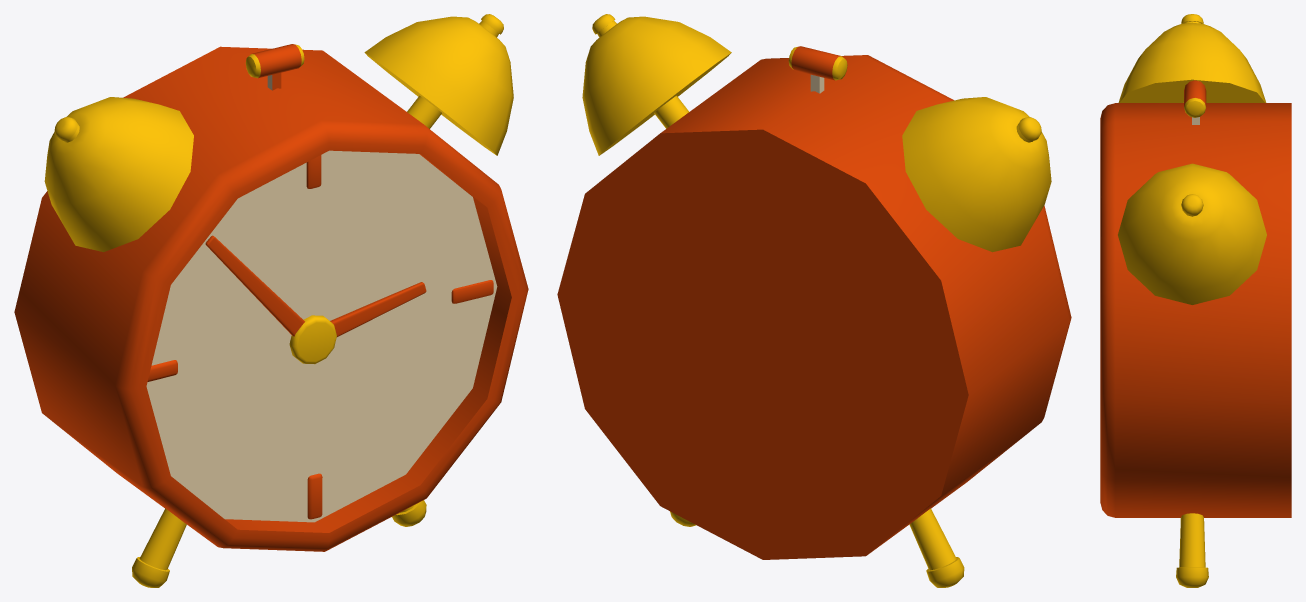
File: Clock_6C.fbx
The picture shows the model from 3 angles, left to right: view 1: azimuth 30°, elevation 25°; view 2: azimuth 150°, elevation 25°; view 3: azimuth 270°, elevation 25°; orthographic projection. The views are drawn at different scales.
Visible parts, largest first — view 1: Clock_6C, Clock_6C Attachment_2, Clock_6C Attachment; view 2: Clock_6C; view 3: Clock_6C.
Boxes of the visible parts, box(x1,y1,x2,y2) form: Clock_6C: box(14, 14, 528, 587); Clock_6C Attachment_2: box(205, 235, 304, 336); Clock_6C Attachment: box(330, 282, 426, 336); Clock_6C: box(557, 14, 1071, 587); Clock_6C: box(1100, 14, 1291, 587).
Size of the model in its own units: 0.354 by 0.3796 by 0.1487.
